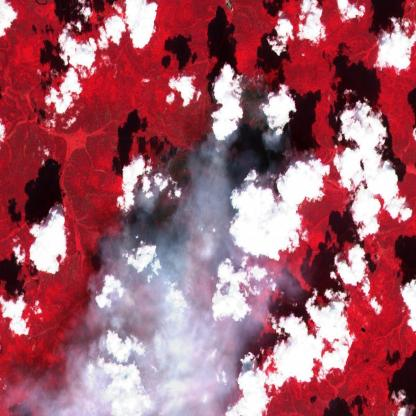fire: (106, 69, 297, 306)
